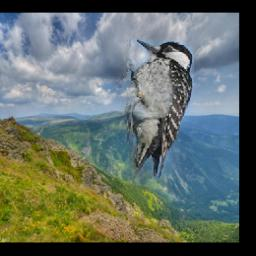Woodpecker: (111, 40, 194, 178)
